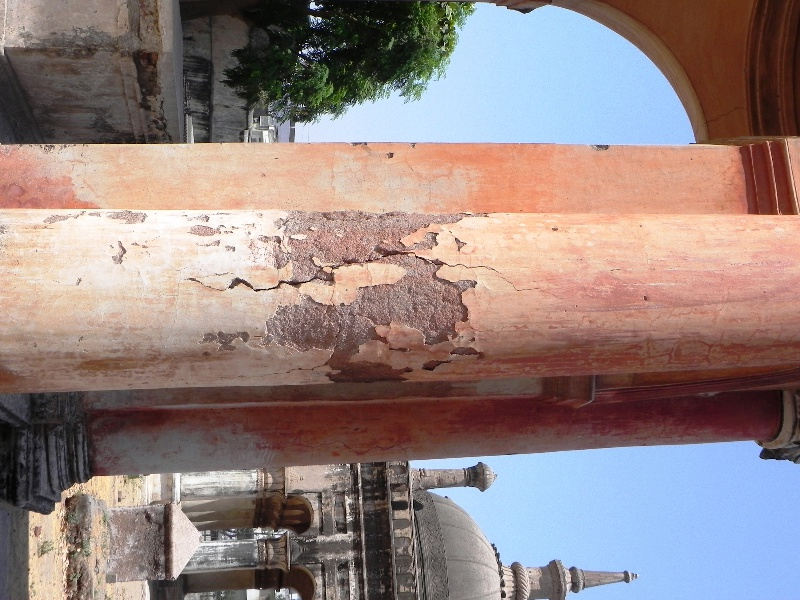Crack: (185, 250, 525, 296)
Spalling: (260, 301, 492, 385), (268, 201, 495, 248)
